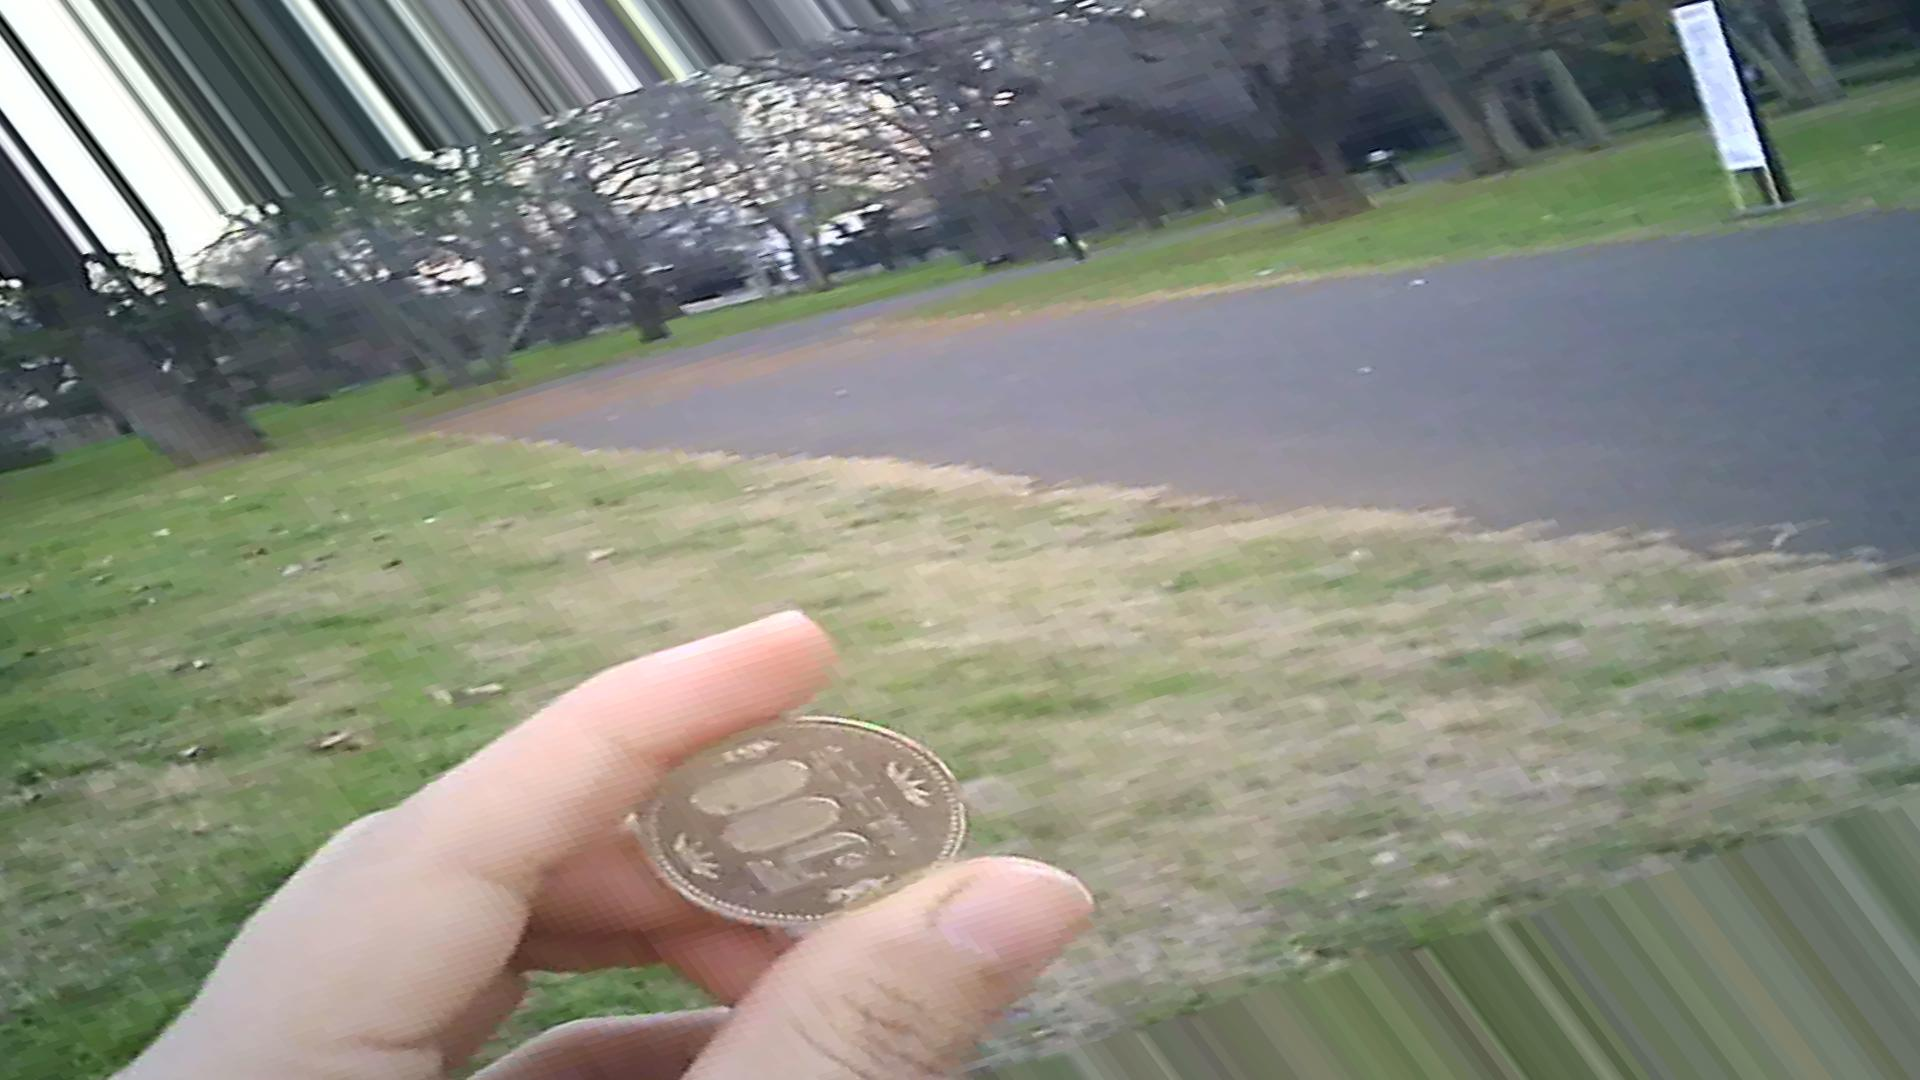500 Yen: (622, 711, 978, 953)
